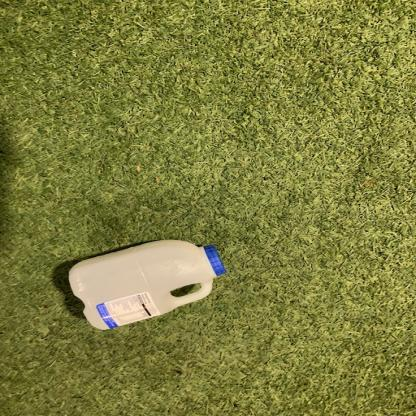trash: (65, 238, 227, 331)
